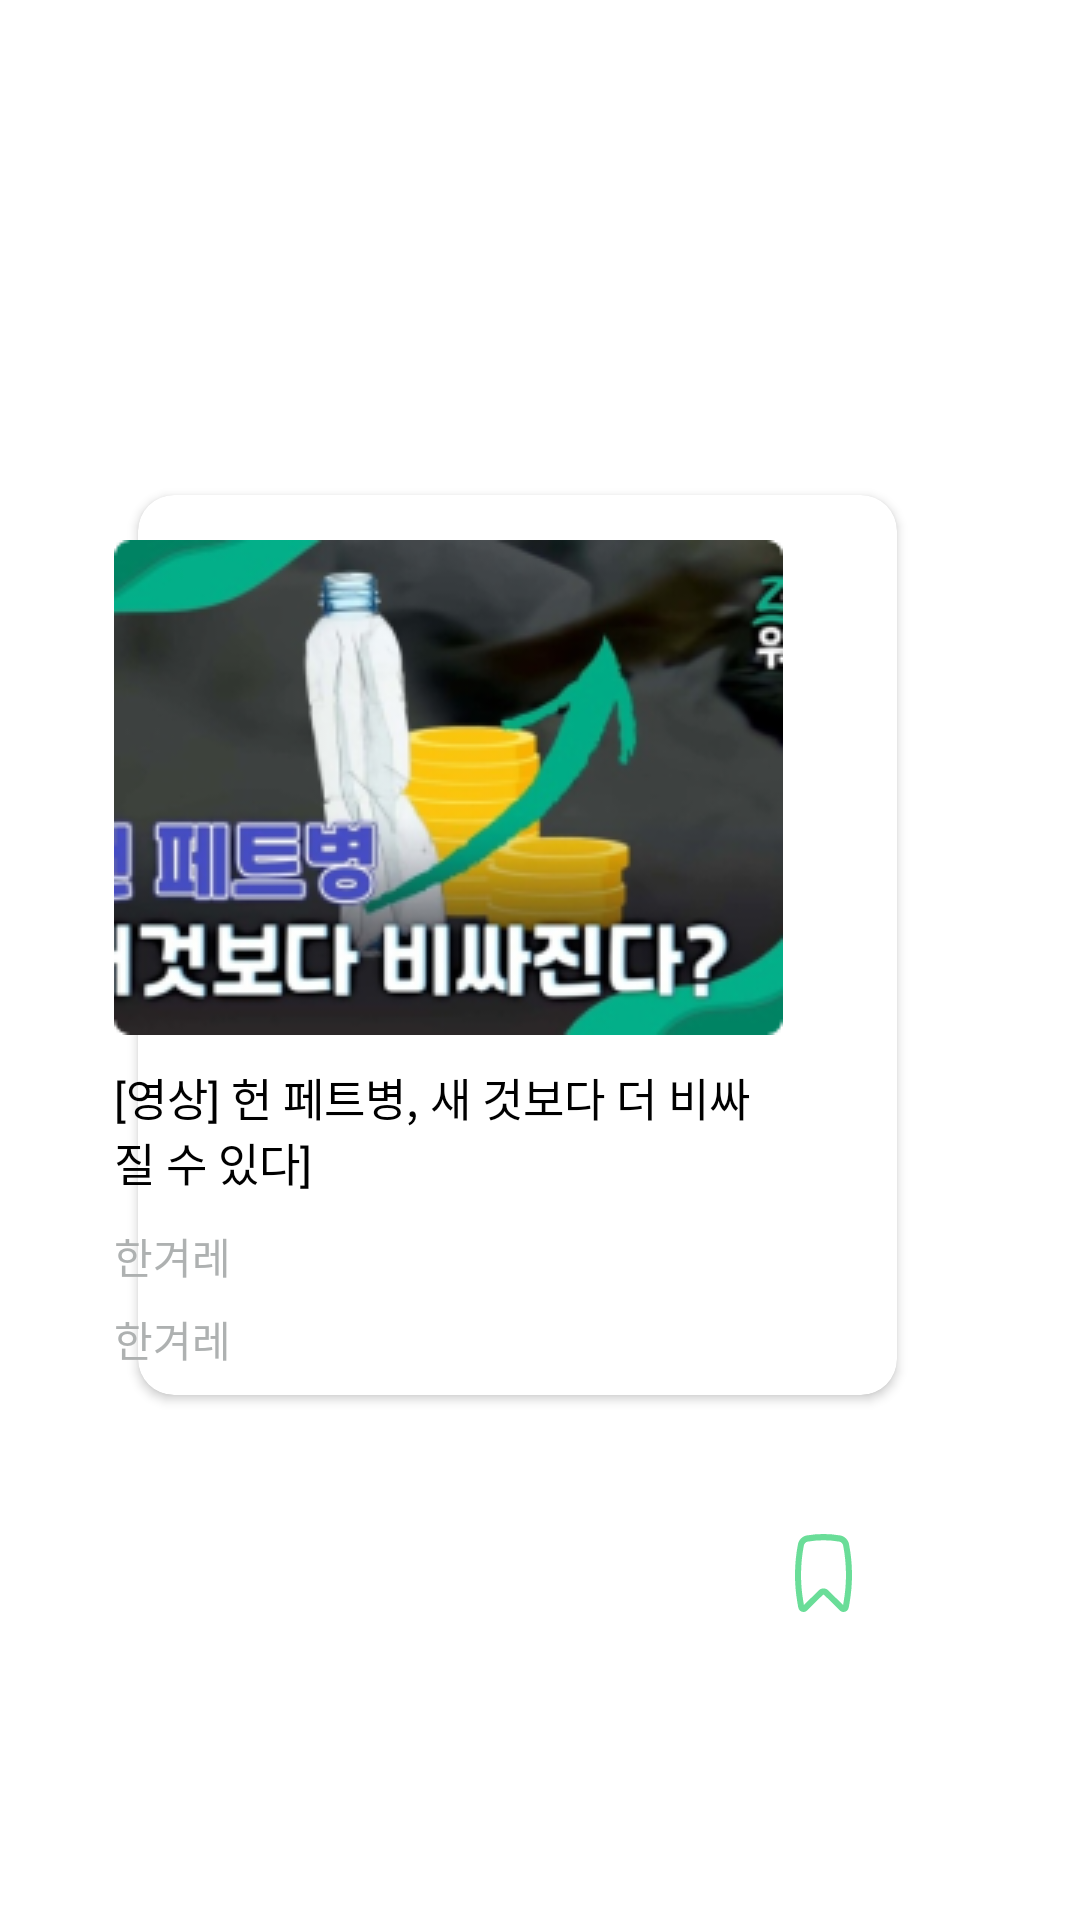

Named icons in this screenshot (1080px x 1920px) and their centers, [x,y]:
empty bookmark: [823,1573]
